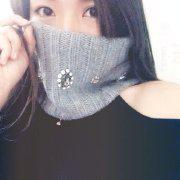WRONG: (25, 1, 111, 88)
